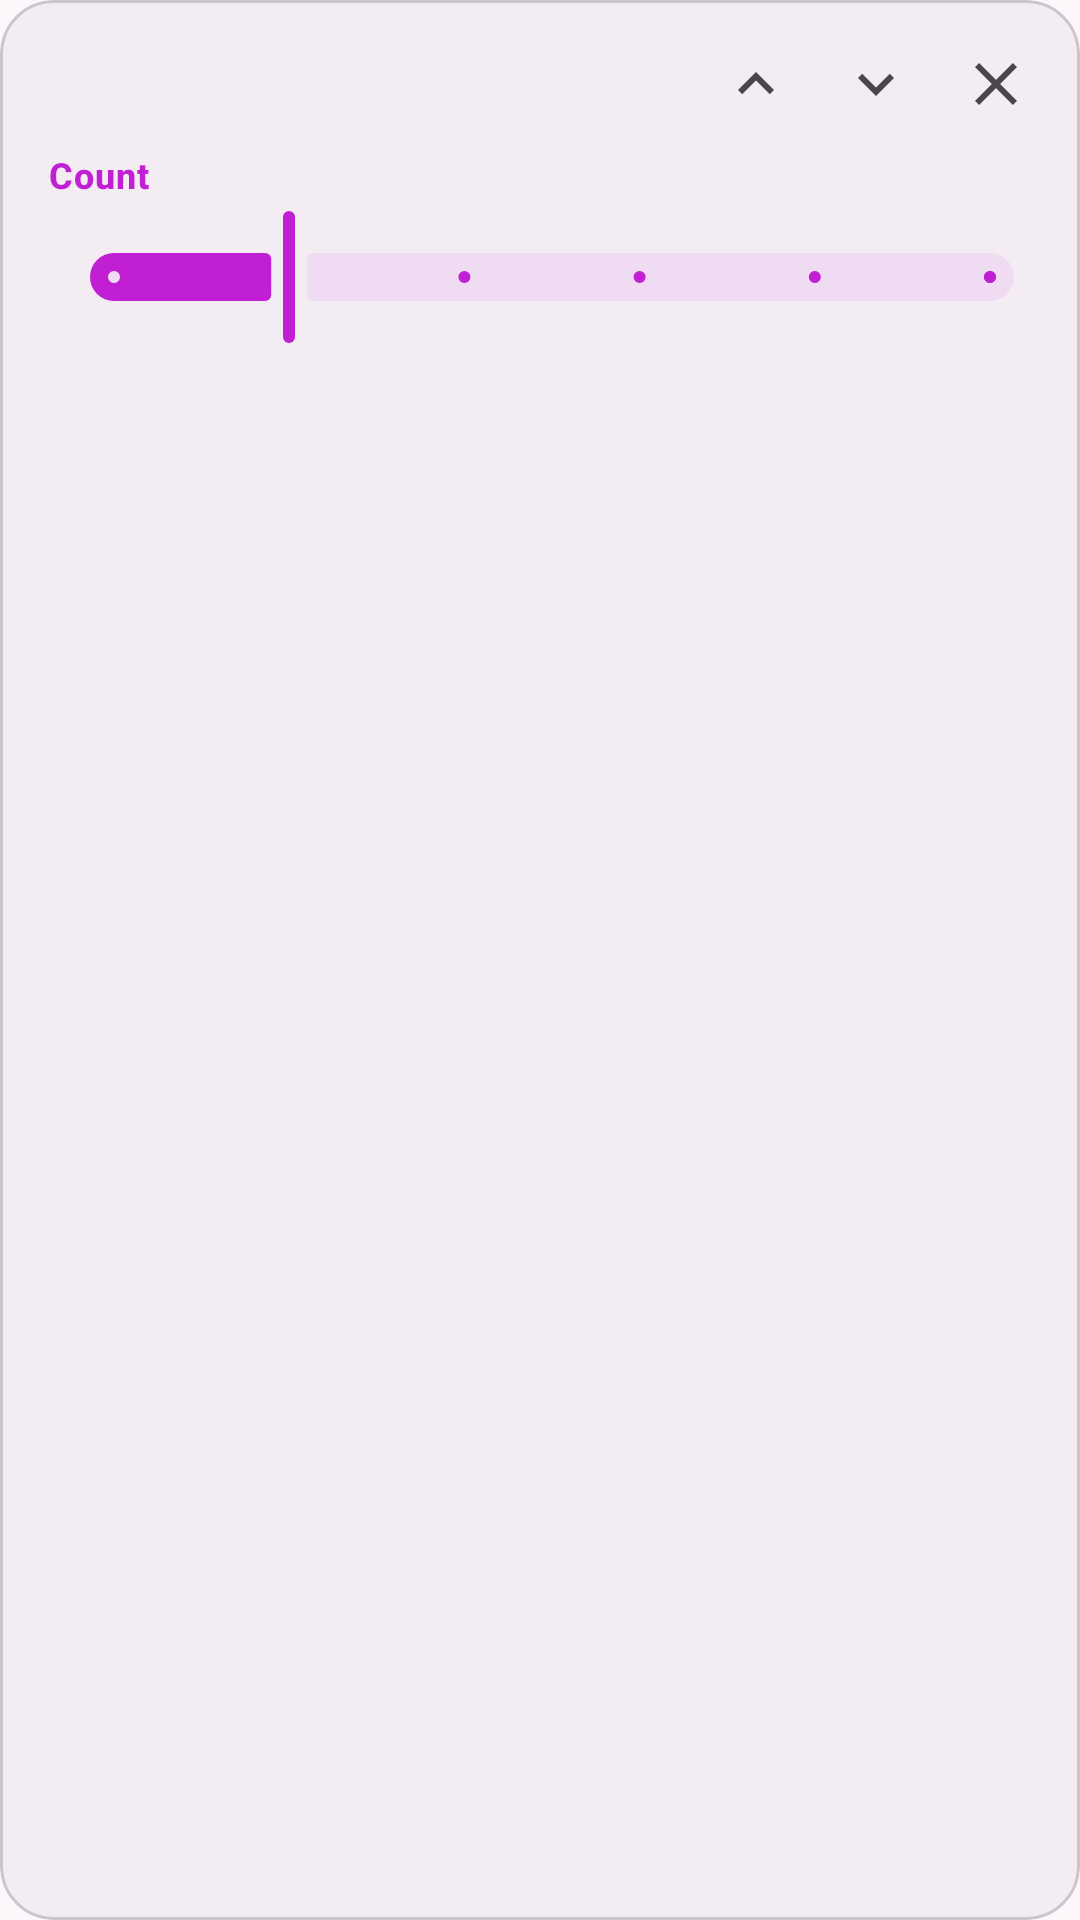

Screen size 1080 x 1920. Icon name, then its box in pixels as [x1,y1,x2,y2]:
Move down: [858,74,894,96]
Move up: [738,72,774,94]
Remove: [975,63,1017,105]
